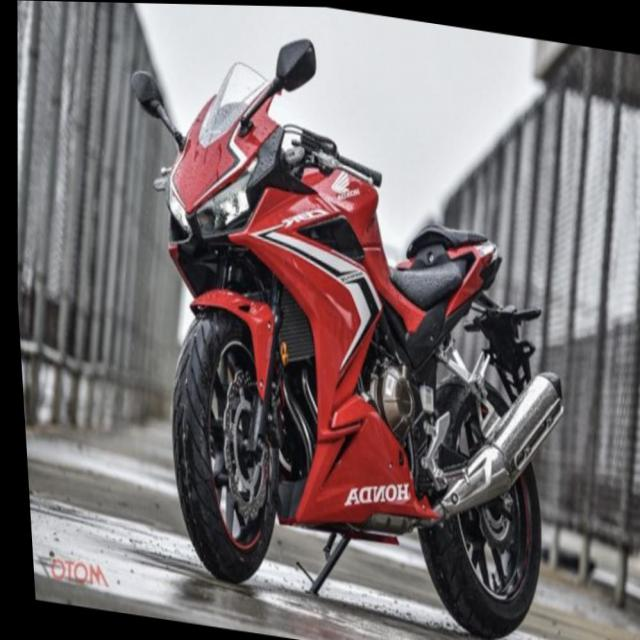CBR500R: (95, 7, 592, 639)
